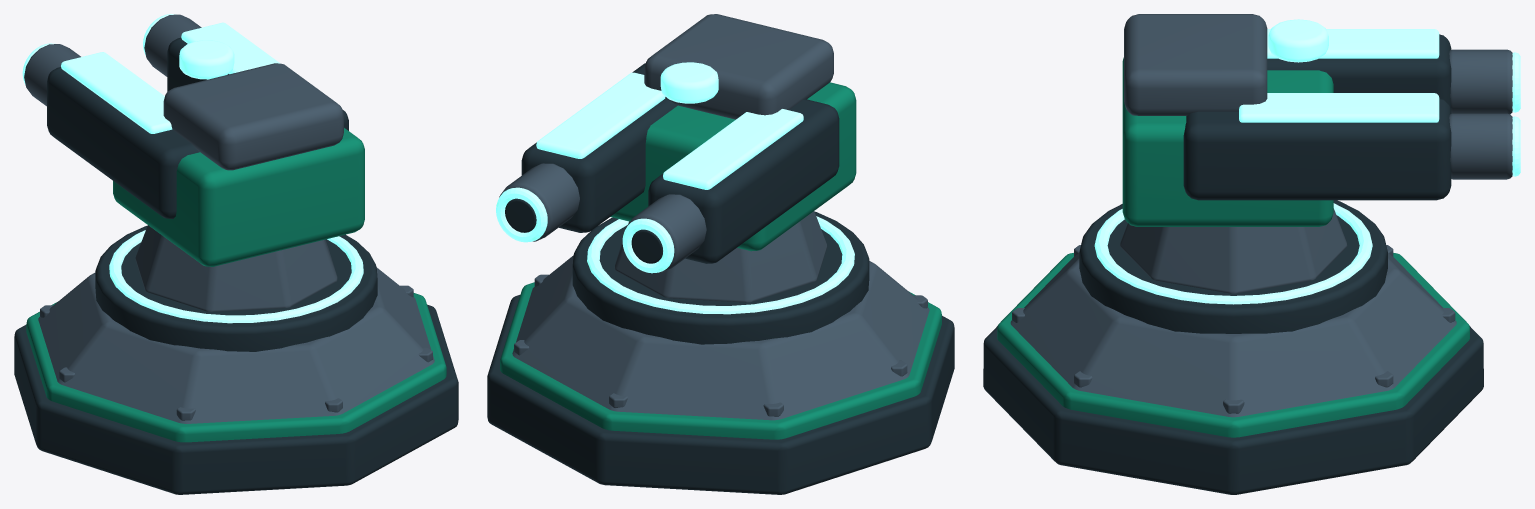
The model's file is pulse.glb.
3 views of the same model, side by side, from view 1: azimuth 30°, elevation 25°; view 2: azimuth 150°, elevation 25°; view 3: azimuth 270°, elevation 25° (orthographic). The views are drawn at different scales.
Parts seen in each view (by area): view 1: Sloped armor, Anchored chassis, Central motor, Upper armor, Turret bearing, Swivel pedestal, Rail housing, Trim, Conductive rail, Power ring, Conductive rail.001, Sensor (+3 smaller); view 2: Sloped armor, Anchored chassis, Turret bearing, Upper armor, Rail housing, Trim, Swivel pedestal, Central motor, Rail housing.001, Conductive rail, Conductive rail.001, Power ring (+7 smaller); view 3: Sloped armor, Anchored chassis, Rail housing.001, Turret bearing, Upper armor, Central motor, Trim, Swivel pedestal, Conductive rail.001, Rail housing, Power ring, Pulse emitter.001 (+3 smaller).
Part boxes in pixels (bbox=[...]): Sloped armor: bbox=[38, 267, 434, 423]; Anchored chassis: bbox=[14, 304, 458, 494]; Central motor: bbox=[113, 128, 364, 266]; Upper armor: bbox=[163, 63, 343, 170]; Turret bearing: bbox=[95, 225, 377, 351]; Swivel pedestal: bbox=[135, 225, 337, 311]; Rail housing: bbox=[47, 67, 199, 218]; Trim: bbox=[26, 293, 446, 442]; Conductive rail: bbox=[61, 52, 172, 133]; Power ring: bbox=[109, 230, 363, 323]; Conductive rail.001: bbox=[181, 22, 280, 74]; Sensor: bbox=[179, 40, 234, 79]; Sloped armor: bbox=[512, 256, 929, 420]; Anchored chassis: bbox=[487, 295, 954, 494]; Turret bearing: bbox=[572, 211, 869, 344]; Upper armor: bbox=[644, 14, 833, 119]; Rail housing: bbox=[648, 99, 839, 263]; Trim: bbox=[500, 282, 941, 439]; Swivel pedestal: bbox=[614, 211, 827, 302]; Central motor: bbox=[610, 82, 856, 251]; Rail housing.001: bbox=[521, 63, 677, 232]; Conductive rail: bbox=[663, 109, 803, 189]; Conductive rail.001: bbox=[536, 72, 665, 158]; Power ring: bbox=[587, 216, 854, 314]; Sloped armor: bbox=[1010, 253, 1456, 417]; Anchored chassis: bbox=[983, 326, 1483, 494]; Rail housing.001: bbox=[1183, 98, 1451, 200]; Turret bearing: bbox=[1079, 200, 1387, 333]; Upper armor: bbox=[1124, 14, 1267, 115]; Central motor: bbox=[1122, 57, 1333, 226]; Trim: bbox=[997, 253, 1469, 437]; Swivel pedestal: bbox=[1120, 208, 1347, 293]; Conductive rail.001: bbox=[1239, 93, 1439, 122]; Rail housing: bbox=[1267, 34, 1451, 111]; Power ring: bbox=[1094, 203, 1372, 304]; Pulse emitter.001: bbox=[1449, 113, 1512, 179].
Bounding box in the file's own units: 1.85 × 1.47 × 1.99.
